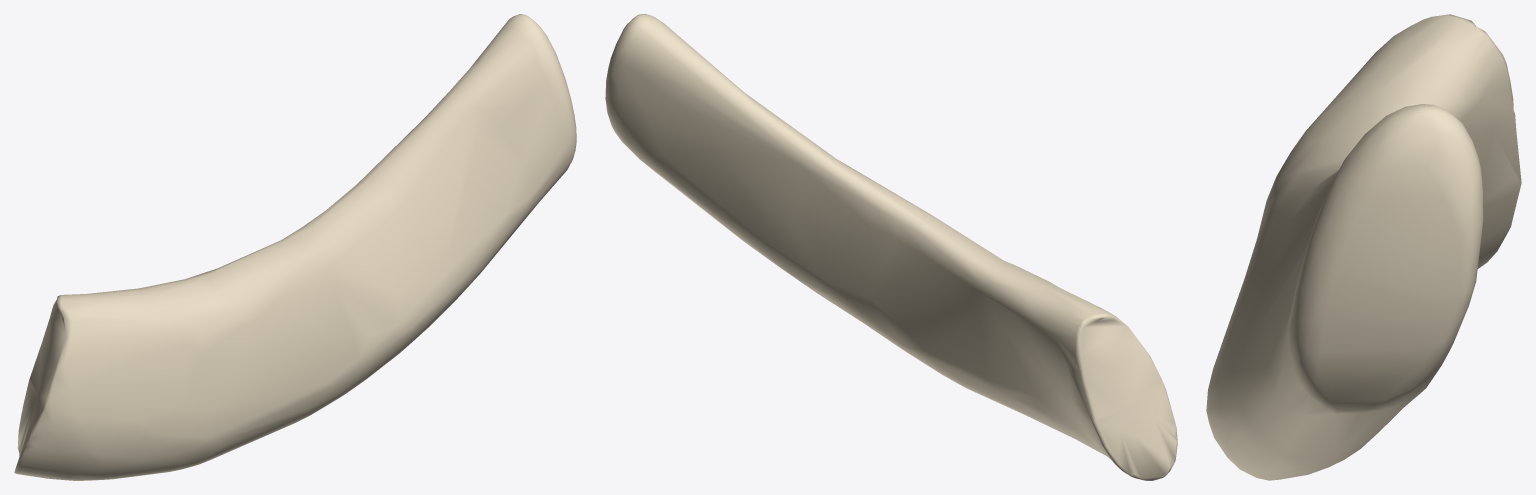
Rendered from costal-cartilage-of-fifth-rib-r.glb.
The picture shows the model from 3 angles, left to right: view 1: azimuth 30°, elevation 25°; view 2: azimuth 150°, elevation 25°; view 3: azimuth 270°, elevation 25°; orthographic projection. The views are drawn at different scales.
Parts seen in each view (by area): view 1: Costal cartilage of fifth rib.r; view 2: Costal cartilage of fifth rib.r; view 3: Costal cartilage of fifth rib.r.
Boxes of the visible parts, x1,y1,x2,y2 form: Costal cartilage of fifth rib.r: (14, 14, 576, 480); Costal cartilage of fifth rib.r: (605, 14, 1177, 480); Costal cartilage of fifth rib.r: (1206, 14, 1521, 480).
Size of the model in its own units: 0.0658 by 0.0394 by 0.0166.
